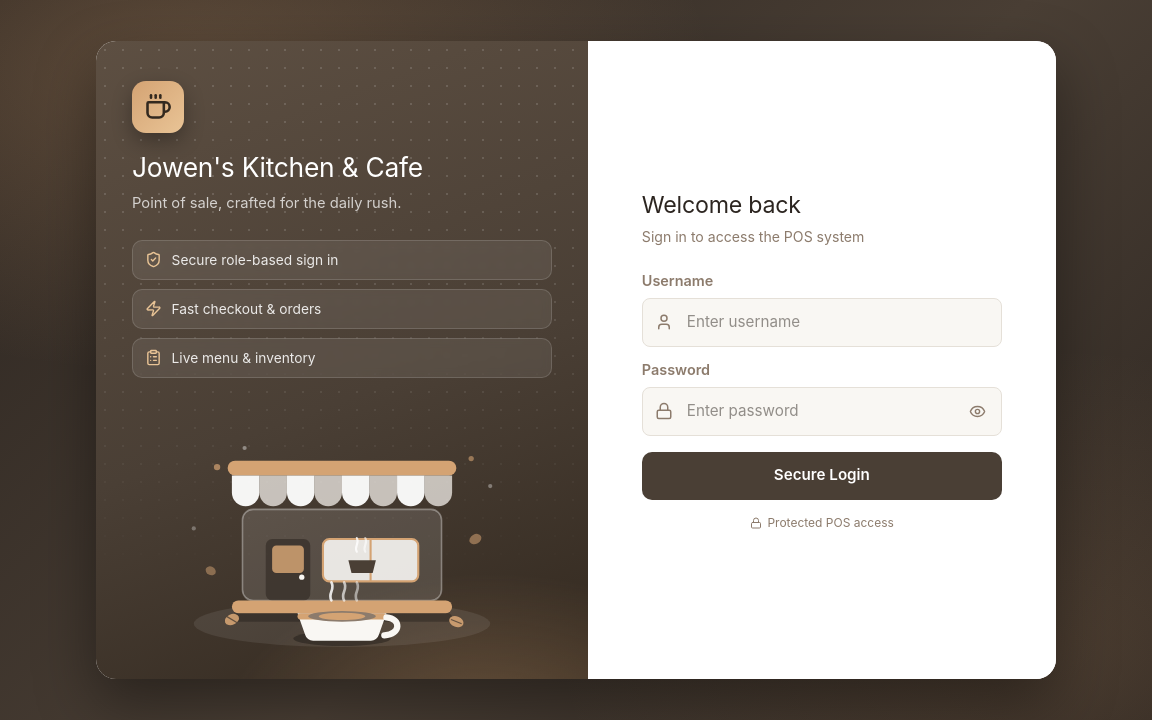
Test: Inventory Dashboard › renders sidebar with navigation links after login
This screenshot has width=1152, height=720.
Type "admin" into the field with test id "username-input" at coordinates (822, 322), box [642,298,1002,347]
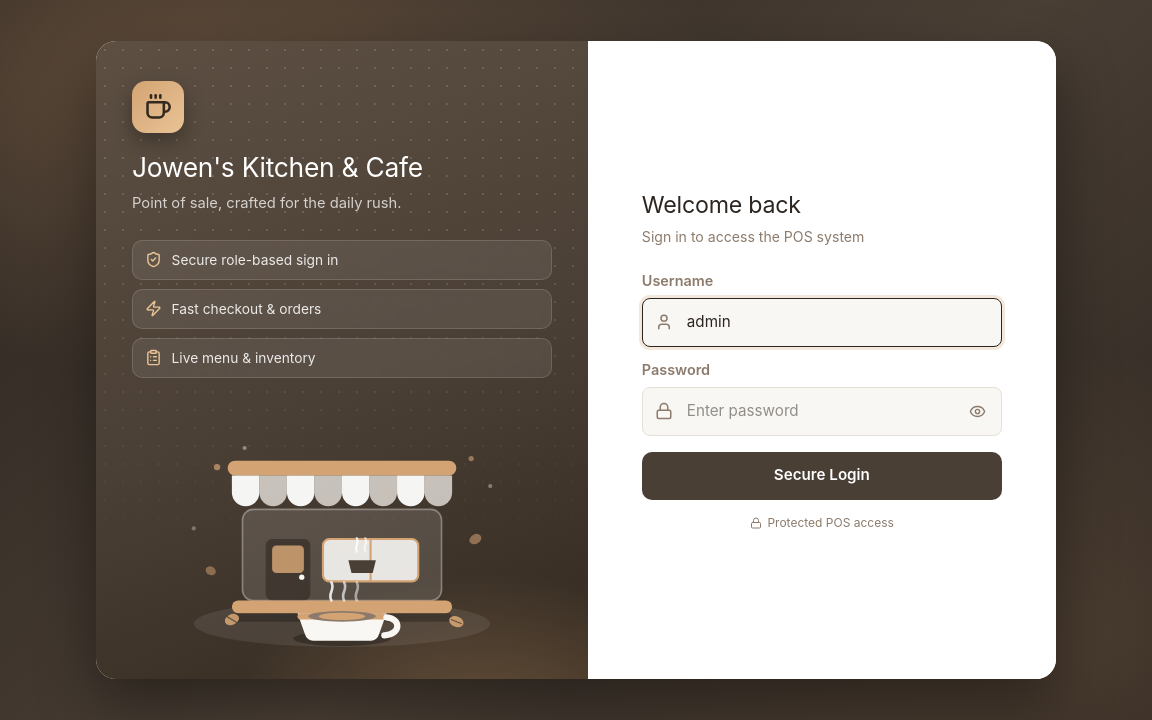
Type "admin123" into the password field with test id "password-input" at coordinates (822, 411), box [642,387,1002,436]
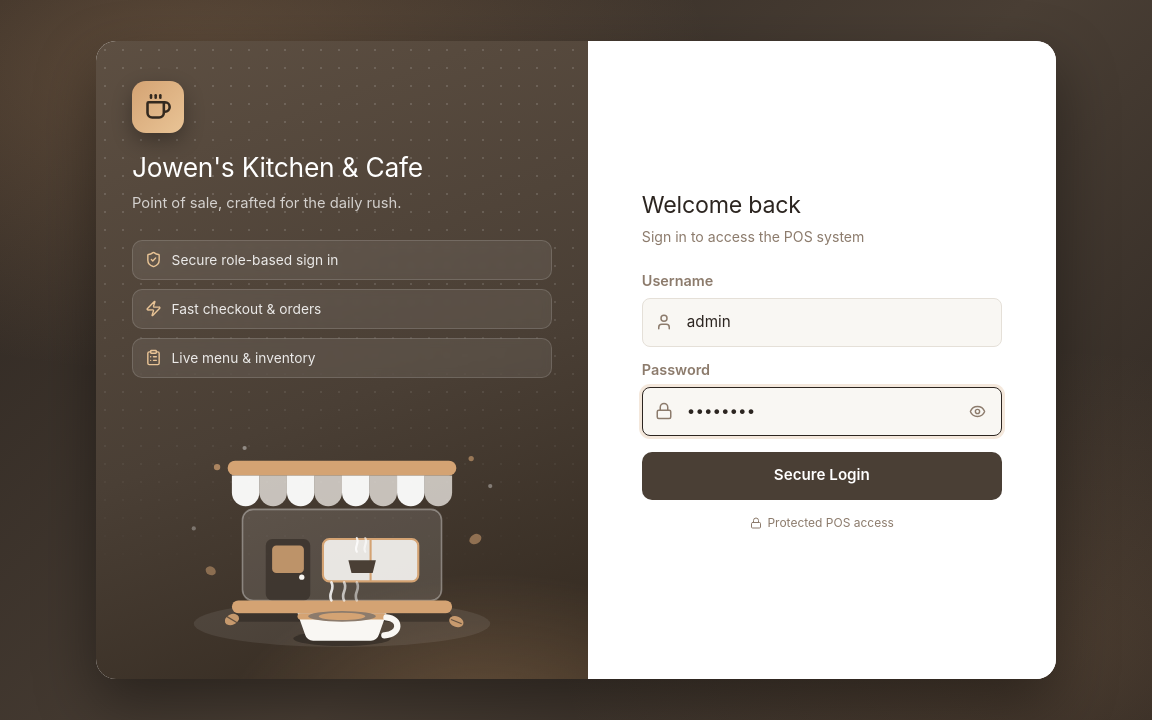
Click the button with test id "login-button" at coordinates (822, 476), box [642,452,1002,500]
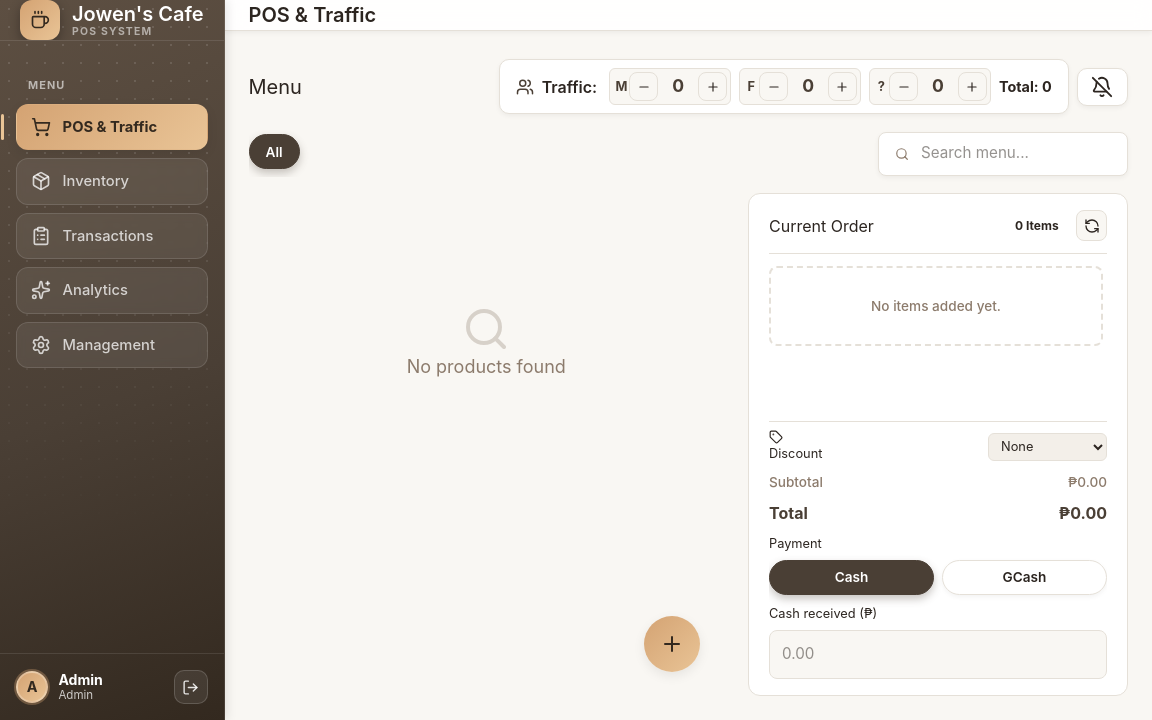
expect the text "Inventory" is shown: met, box [63,170,129,192]
expect the text "Management" is shown: met, box [63,334,155,356]
